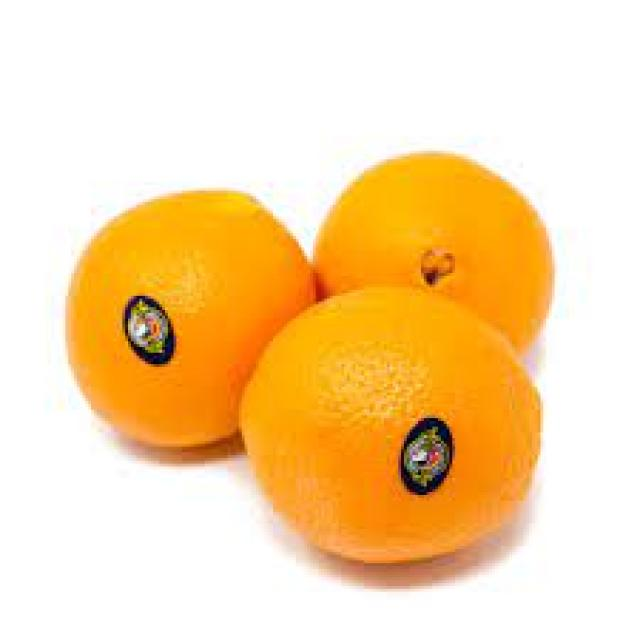Good_Orange: (236, 284, 546, 566), (63, 188, 319, 452), (310, 151, 558, 353)
